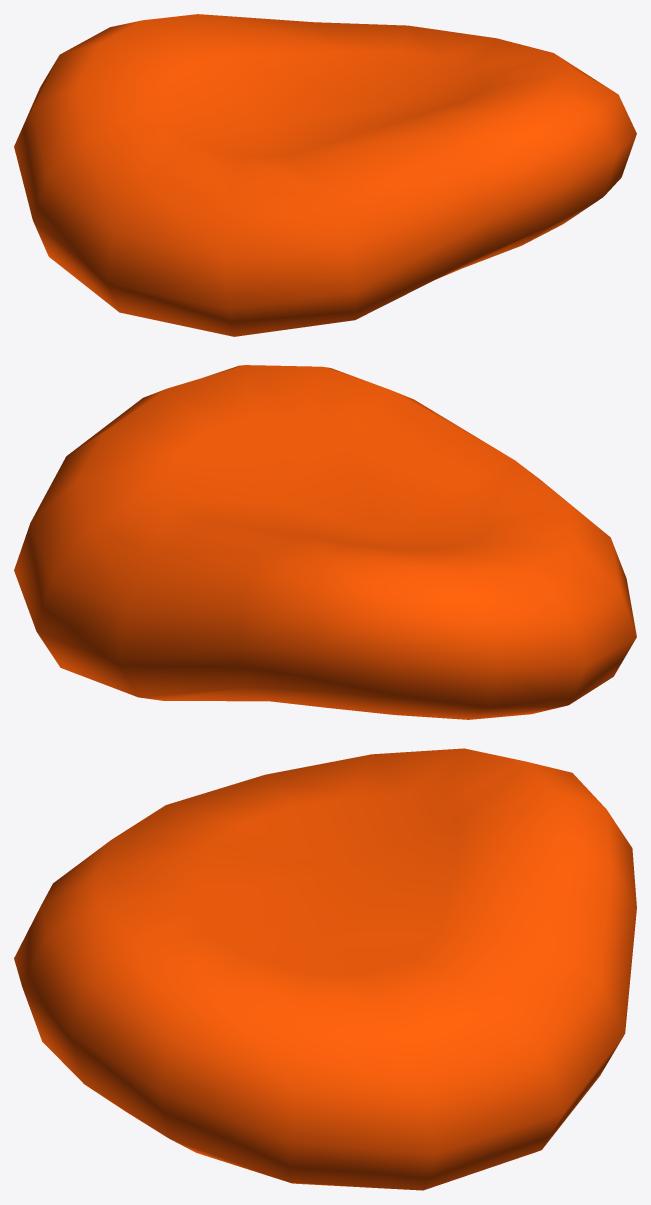
Rendered from GlobuleRouge.FBX.
3 views of the same model, one above another, from view 1: azimuth 30°, elevation 25°; view 2: azimuth 150°, elevation 25°; view 3: azimuth 270°, elevation 25° (orthographic). The views are drawn at different scales.
Visible parts, largest first — view 1: GlobuleRouge; view 2: GlobuleRouge; view 3: GlobuleRouge.
Boxes of the visible parts, bbox=[...] form: GlobuleRouge: bbox=[14, 14, 636, 336]; GlobuleRouge: bbox=[14, 365, 636, 719]; GlobuleRouge: bbox=[14, 748, 636, 1190].
Bounding box in the file's own units: 19.11 × 6.19 × 15.5.
